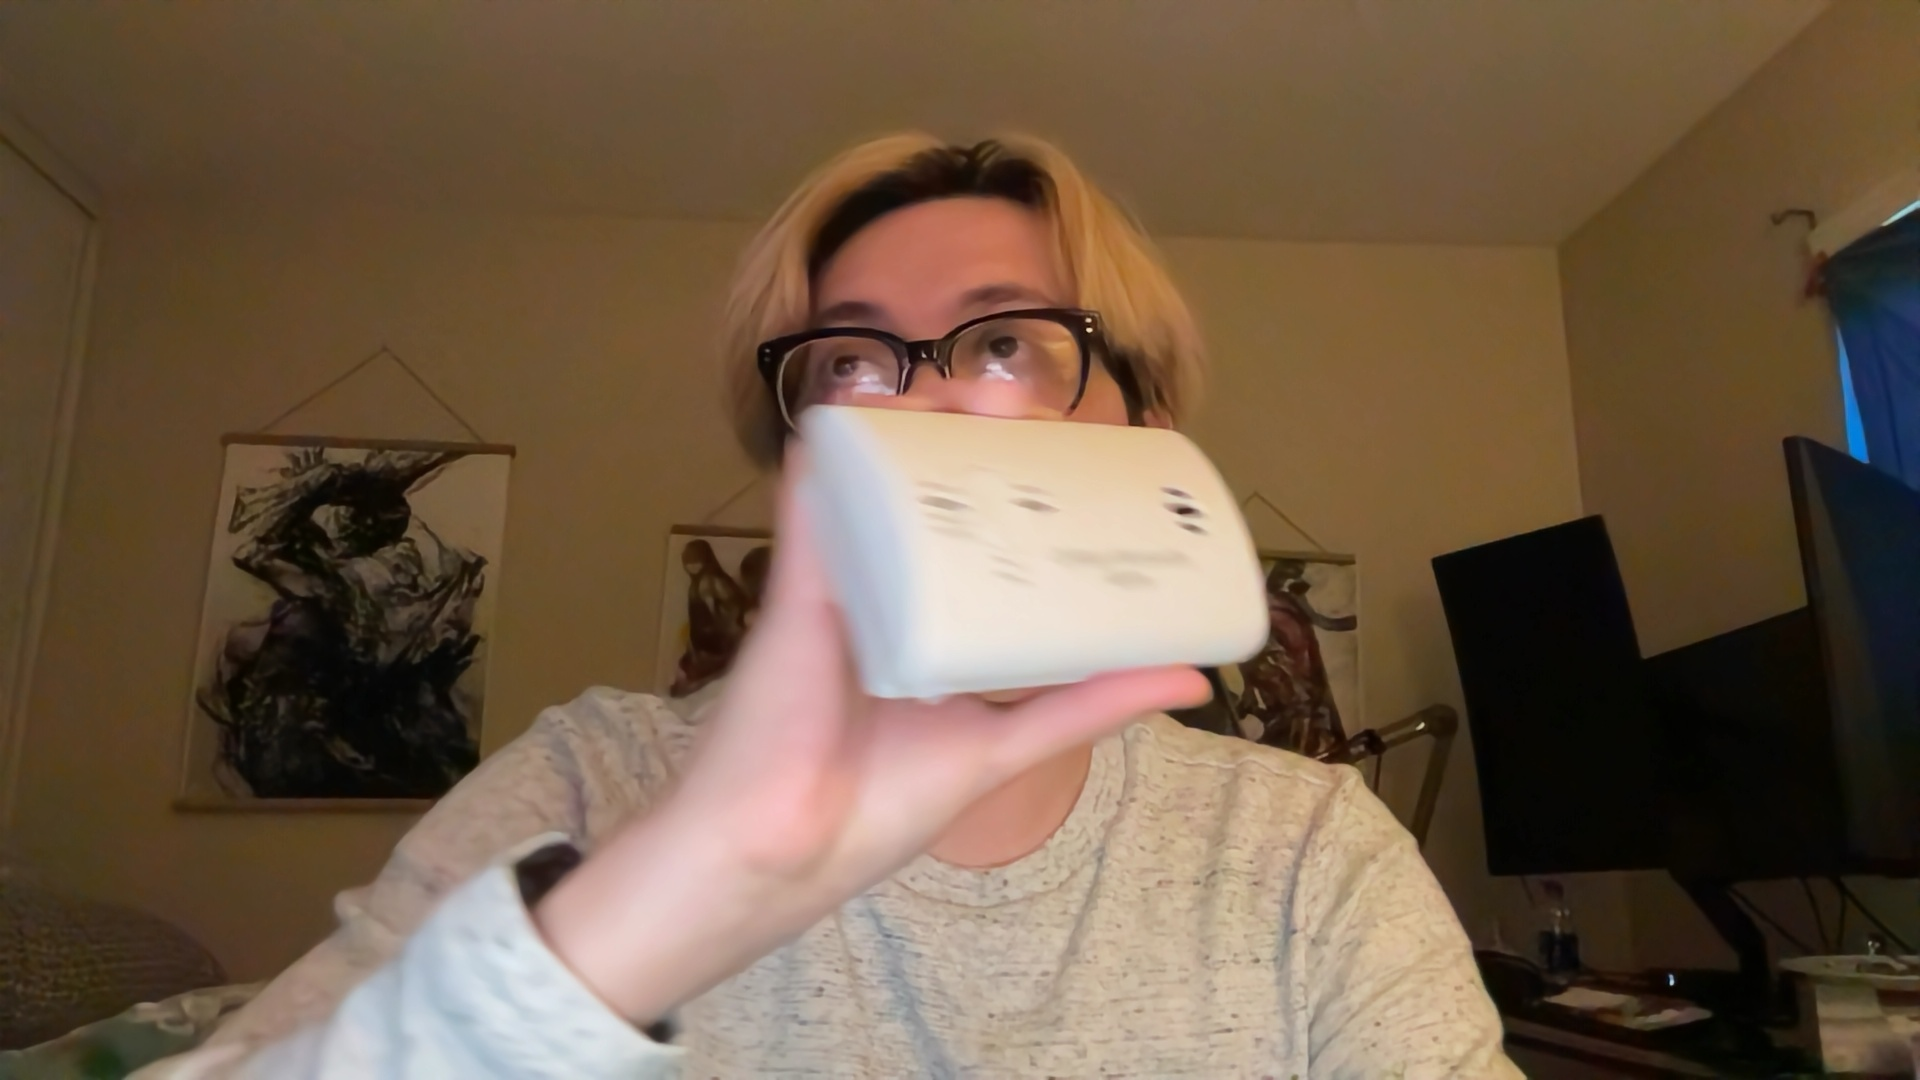carbonmonitor: (782, 396, 1288, 695)
